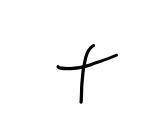plus: (56, 44, 118, 104)
